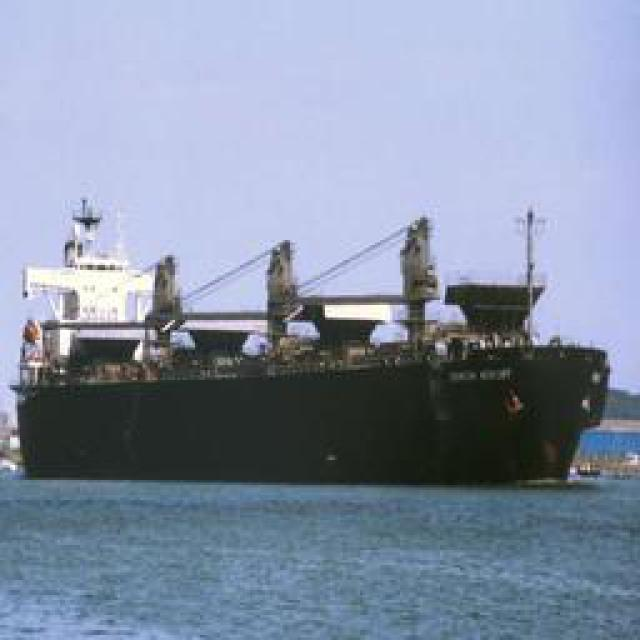Ship: (5, 170, 616, 496)
